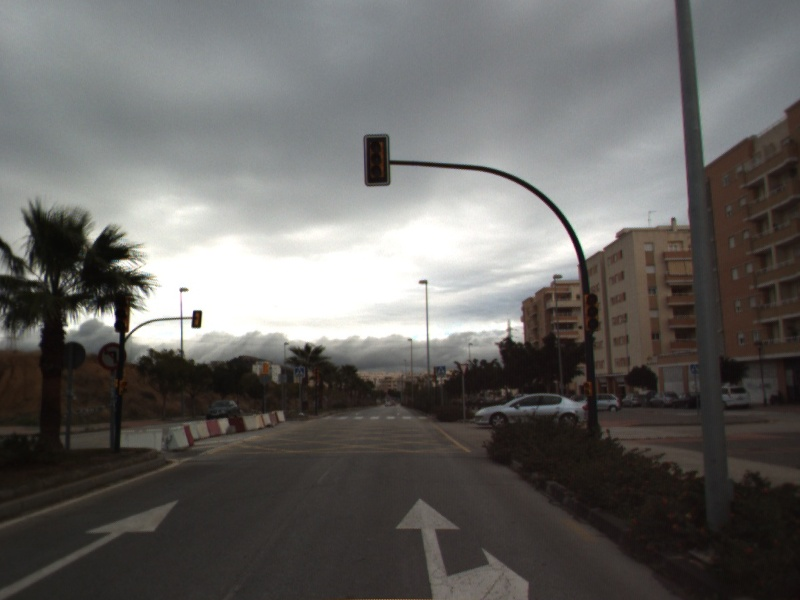STRAIGHT: (1, 498, 181, 600)
STRAIGHT_RIGHT: (393, 496, 531, 600)
